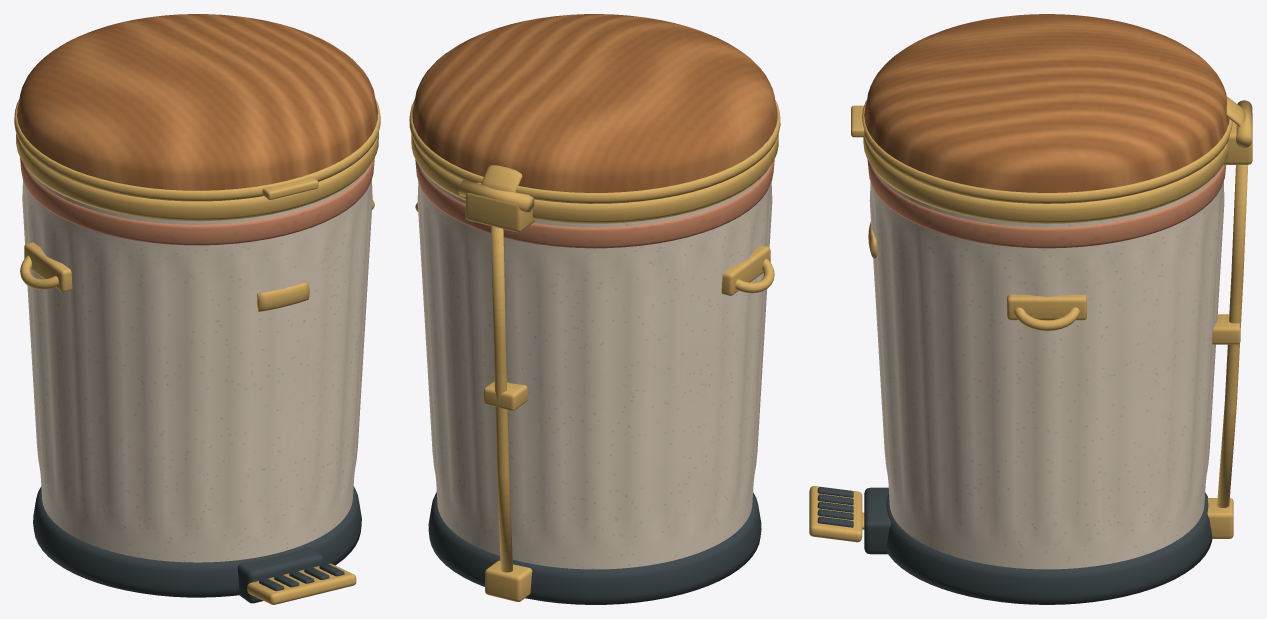
File: trash-can.glb
The picture shows the model from 3 angles, left to right: view 1: azimuth 30°, elevation 25°; view 2: azimuth 150°, elevation 25°; view 3: azimuth 270°, elevation 25°; orthographic projection.
Visible parts, largest first — view 1: Bin_Outer_Body, Bin_Wood_Lid, Bin_Base_Ring, Bin_Accent_Band, Bin_Collar_Rim, Bin_Lid_Trim, Bin_Pedal_Housing, Bin_Pedal_Pad, Bin_Handle_Escutcheon_L, Bin_Front_Badge, Bin_Pedal_Grip, Bin_Lid_Tab (+1 smaller); view 2: Bin_Outer_Body, Bin_Wood_Lid, Bin_Base_Ring, Bin_Accent_Band, Bin_Collar_Rim, Bin_Lift_Rod, Bin_Lid_Trim, Bin_Hinge_Body, Bin_Rod_Guide, Bin_Handle_Escutcheon_L, Bin_Hinge_Pin, Bin_Rod_Clip (+2 smaller); view 3: Bin_Outer_Body, Bin_Wood_Lid, Bin_Base_Ring, Bin_Accent_Band, Bin_Collar_Rim, Bin_Lid_Trim, Bin_Lift_Rod, Bin_Handle_Escutcheon_R, Bin_Pedal_Pad, Bin_Pedal_Housing, Bin_Pedal_Grip, Bin_Rod_Guide (+4 smaller).
Part boxes in pixels (x1,y1,x2,y2): Bin_Outer_Body: (22,166,372,562); Bin_Wood_Lid: (17,14,377,190); Bin_Base_Ring: (33,486,361,597); Bin_Accent_Band: (20,157,374,245); Bin_Collar_Rim: (16,132,378,221); Bin_Lid_Trim: (14,98,380,201); Bin_Pedal_Housing: (237,546,323,603); Bin_Pedal_Pad: (247,563,356,604); Bin_Handle_Escutcheon_L: (24,242,72,292); Bin_Front_Badge: (257,281,309,311); Bin_Pedal_Grip: (259,563,344,590); Bin_Lid_Tab: (262,176,318,199); Bin_Outer_Body: (417,167,772,569); Bin_Wood_Lid: (412,14,777,192); Bin_Base_Ring: (428,492,761,604); Bin_Accent_Band: (415,159,774,248); Bin_Collar_Rim: (411,134,778,223); Bin_Lift_Rod: (491,226,512,572); Bin_Lid_Trim: (409,99,780,203); Bin_Hinge_Body: (465,182,534,232); Bin_Rod_Guide: (485,560,532,601); Bin_Handle_Escutcheon_L: (721,245,770,295); Bin_Hinge_Pin: (458,180,534,212); Bin_Rod_Clip: (483,381,527,410); Bin_Outer_Body: (869,168,1224,569); Bin_Wood_Lid: (864,14,1229,192); Bin_Base_Ring: (886,492,1212,604); Bin_Accent_Band: (867,160,1226,248); Bin_Collar_Rim: (863,137,1227,223); Bin_Lid_Trim: (862,99,1232,203); Bin_Lift_Rod: (1217,165,1248,507); Bin_Handle_Escutcheon_R: (1007,294,1086,320); Bin_Pedal_Pad: (809,486,862,542); Bin_Pedal_Housing: (864,487,891,554); Bin_Pedal_Grip: (817,487,853,527); Bin_Rod_Guide: (1207,498,1233,538).
Size of the model in its own units: 0.4216 by 0.56 by 0.4659.
5 materials, 4 textured.
